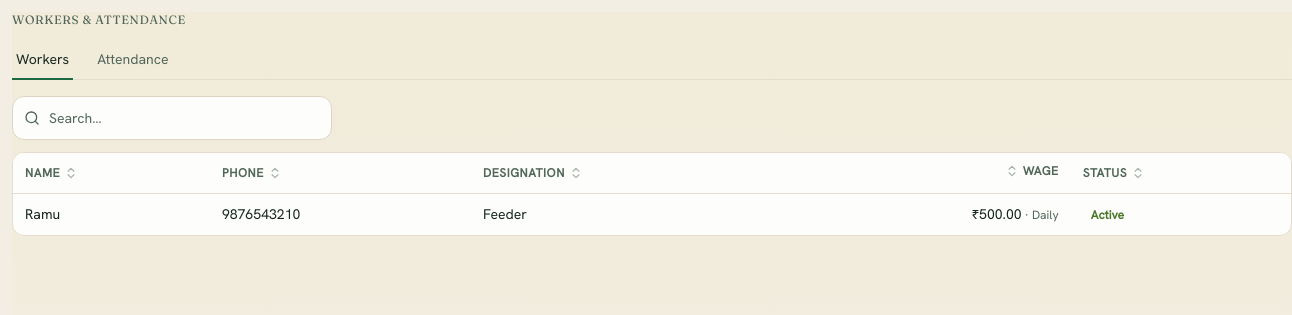
Test: WorkersPanel (11.6a rewrite) › renders an API-written LEAVE status correctly and counts it separately (not "unmarked")
Click the tab "Attendance".
click(133, 60)  # box [93,40,172,80]
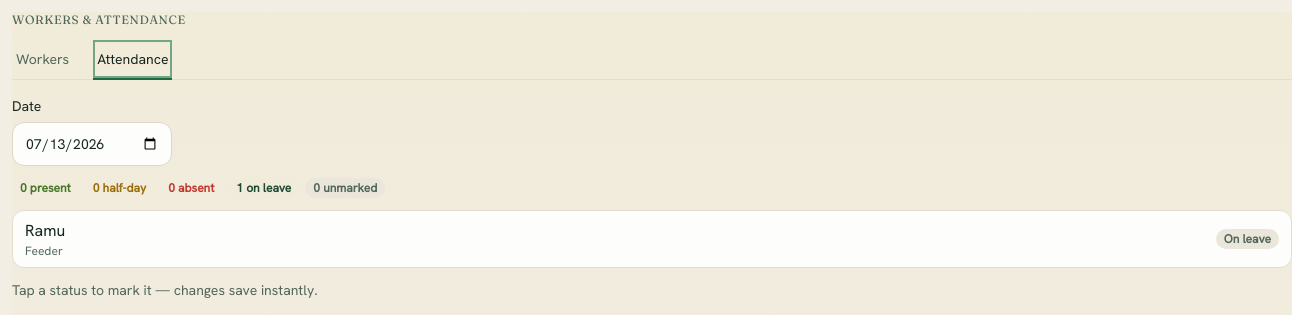
Expected: the text "On leave" is shown, [1216,229,1279,249]
Expected: the text "1 on leave" is shown, [228,178,299,198]
Expected: the text "0 unmarked" is shown, [305,178,385,198]
